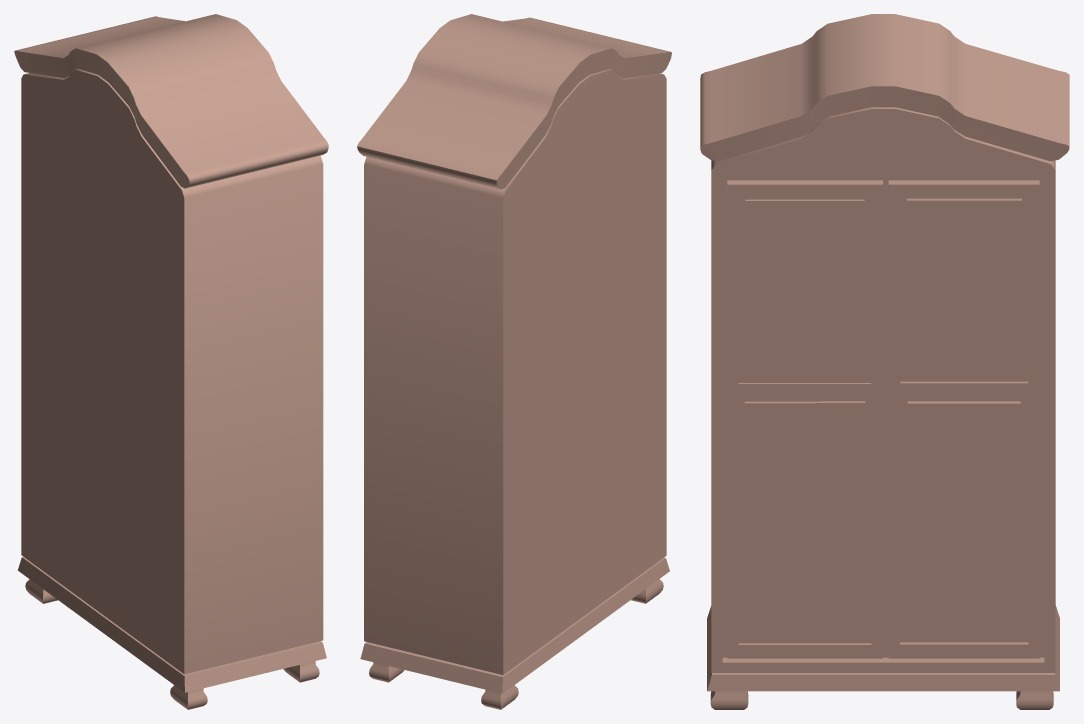
The model's file is Wardrobe.fbx.
3 renders of one model, left to right at view 1: azimuth 30°, elevation 25°; view 2: azimuth 150°, elevation 25°; view 3: azimuth 270°, elevation 25°, orthographic. The views are drawn at different scales.
Parts seen in each view (by area): view 1: armoire; view 2: armoire; view 3: armoire.
Part boxes in pixels (left/top/right/bottom): armoire: left=14, top=14, right=328, bottom=709; armoire: left=357, top=14, right=671, bottom=709; armoire: left=700, top=14, right=1069, bottom=709.
Size of the model in its own units: 75 by 300 by 160.
